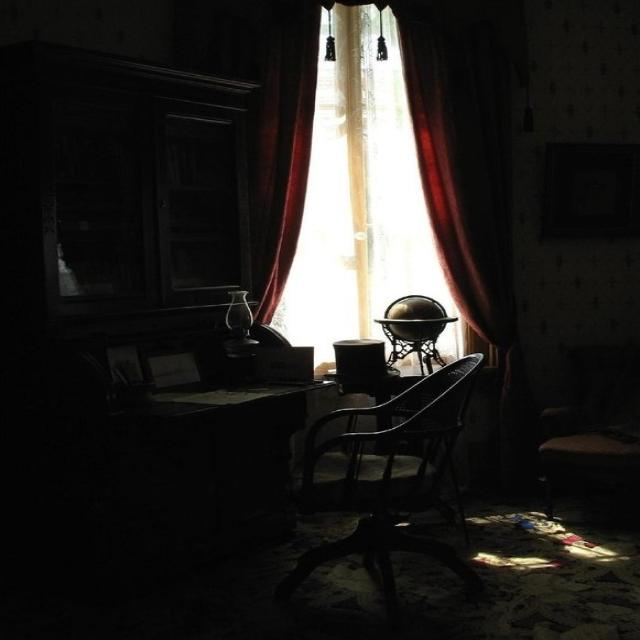Table: (0, 308, 334, 598)
chair: (306, 342, 522, 576)
